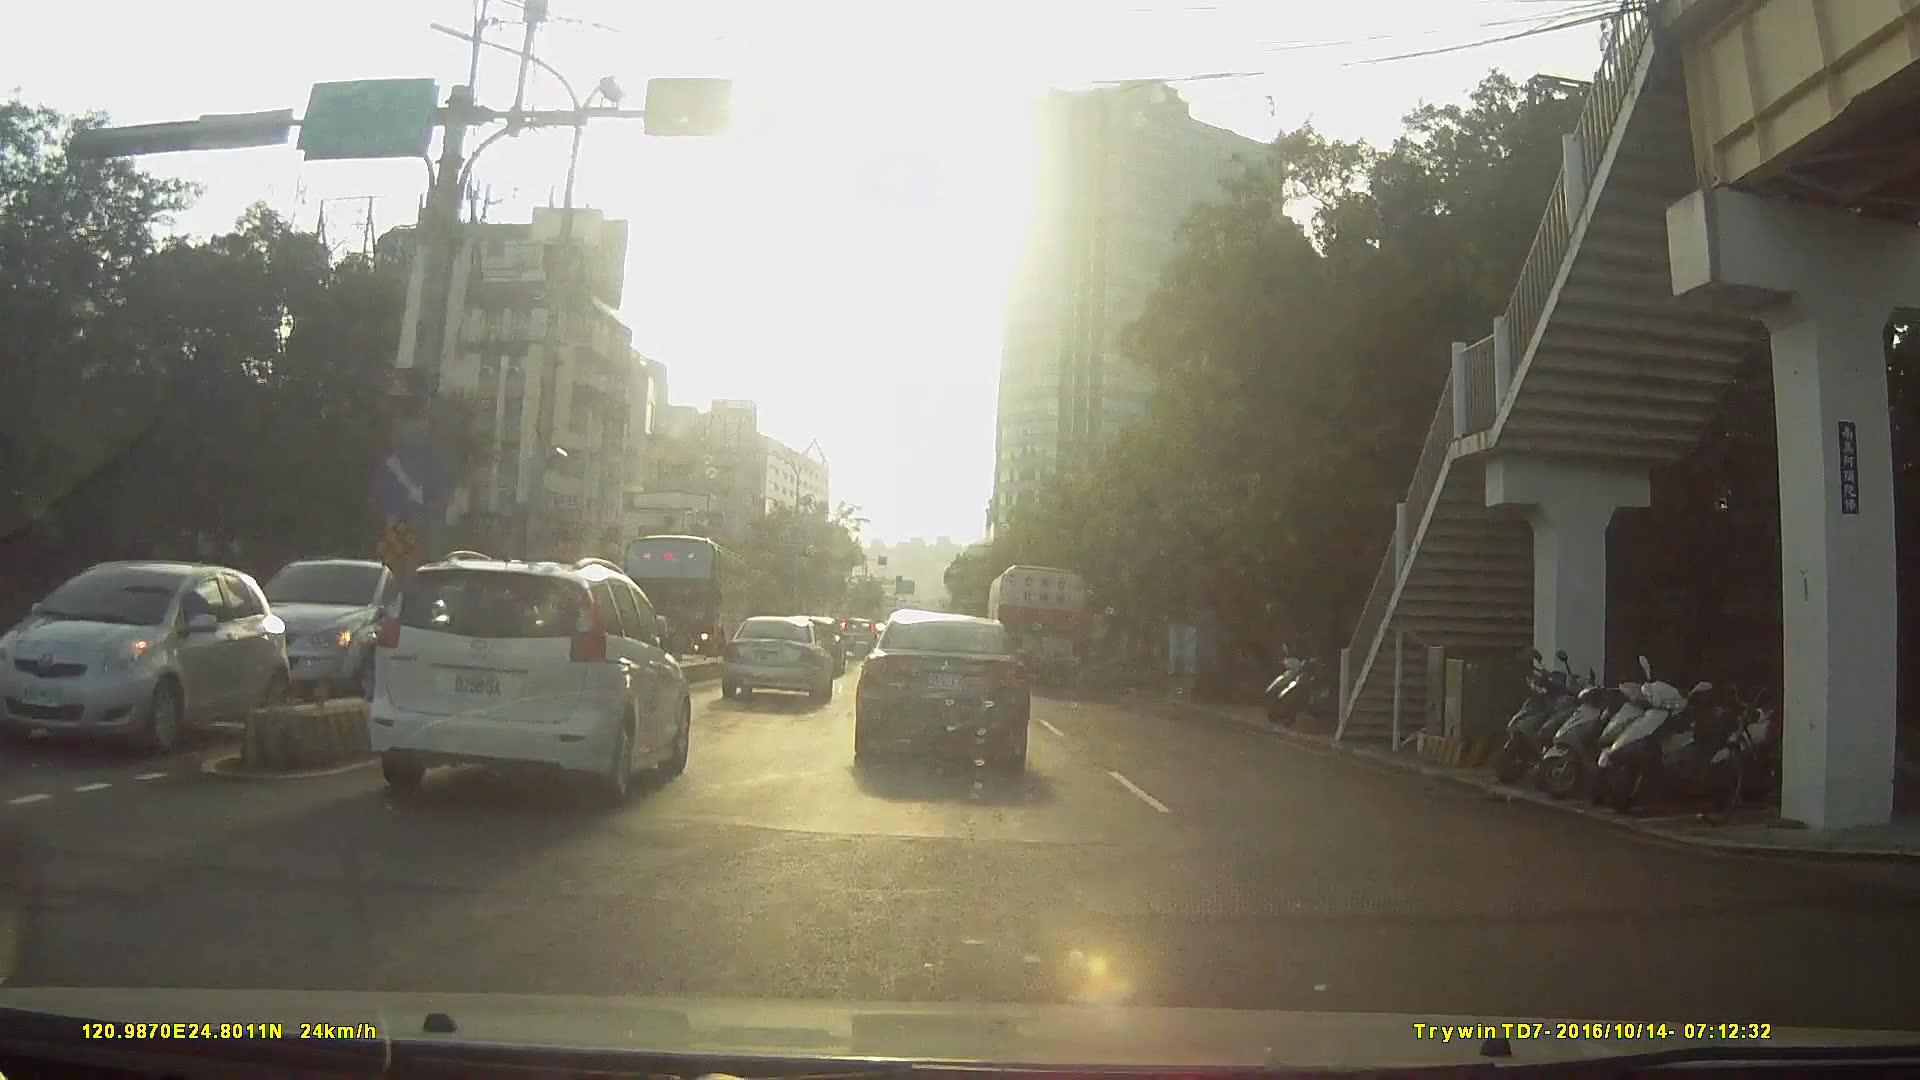vehicle: (251, 556, 684, 868), (368, 550, 694, 803), (5, 551, 298, 762), (208, 550, 468, 717), (853, 605, 1031, 775), (615, 531, 749, 659), (985, 563, 1091, 694), (723, 615, 833, 705), (835, 616, 882, 658)
